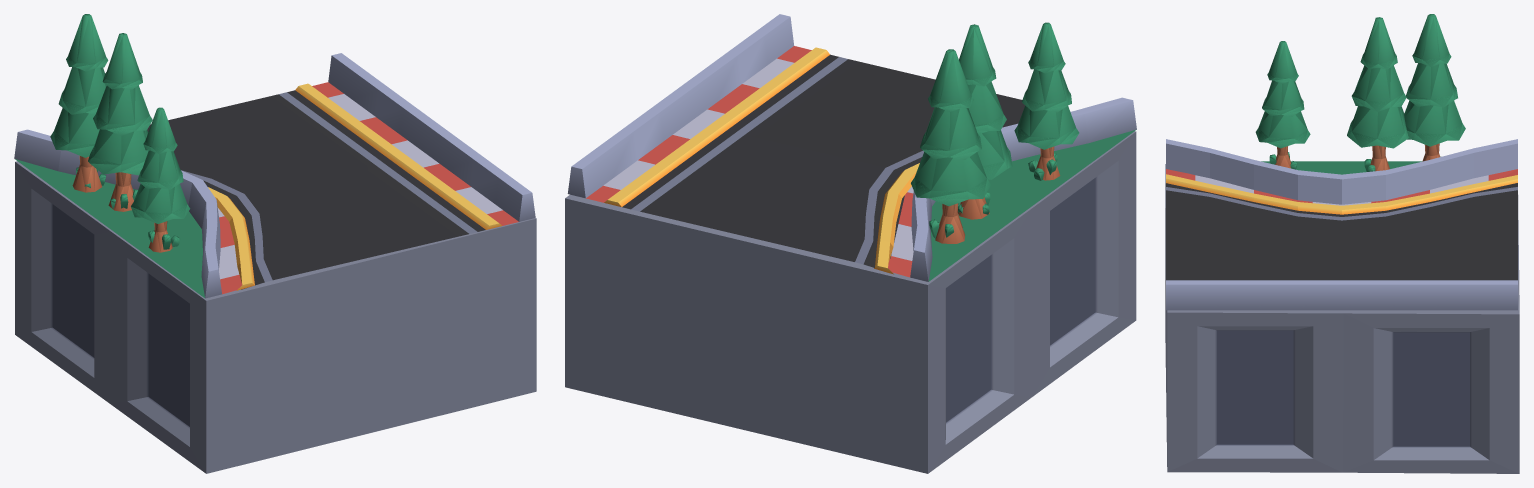
Rendered from elev-track-choke-half.glb.
The picture shows the model from 3 angles, left to right: view 1: azimuth 30°, elevation 25°; view 2: azimuth 150°, elevation 25°; view 3: azimuth 270°, elevation 25°; orthographic projection. The views are drawn at different scales.
Visible parts, largest first — view 1: track-straight.007; view 2: track-straight.007; view 3: track-straight.007.
Part boxes in pixels (box(x1,y1,x2,y2)): track-straight.007: box(14, 14, 536, 473); track-straight.007: box(565, 14, 1136, 473); track-straight.007: box(1165, 14, 1519, 473).
Bounding box in the file's own units: 10.22 × 10.05 × 10.06.
2 materials, 2 textured.
